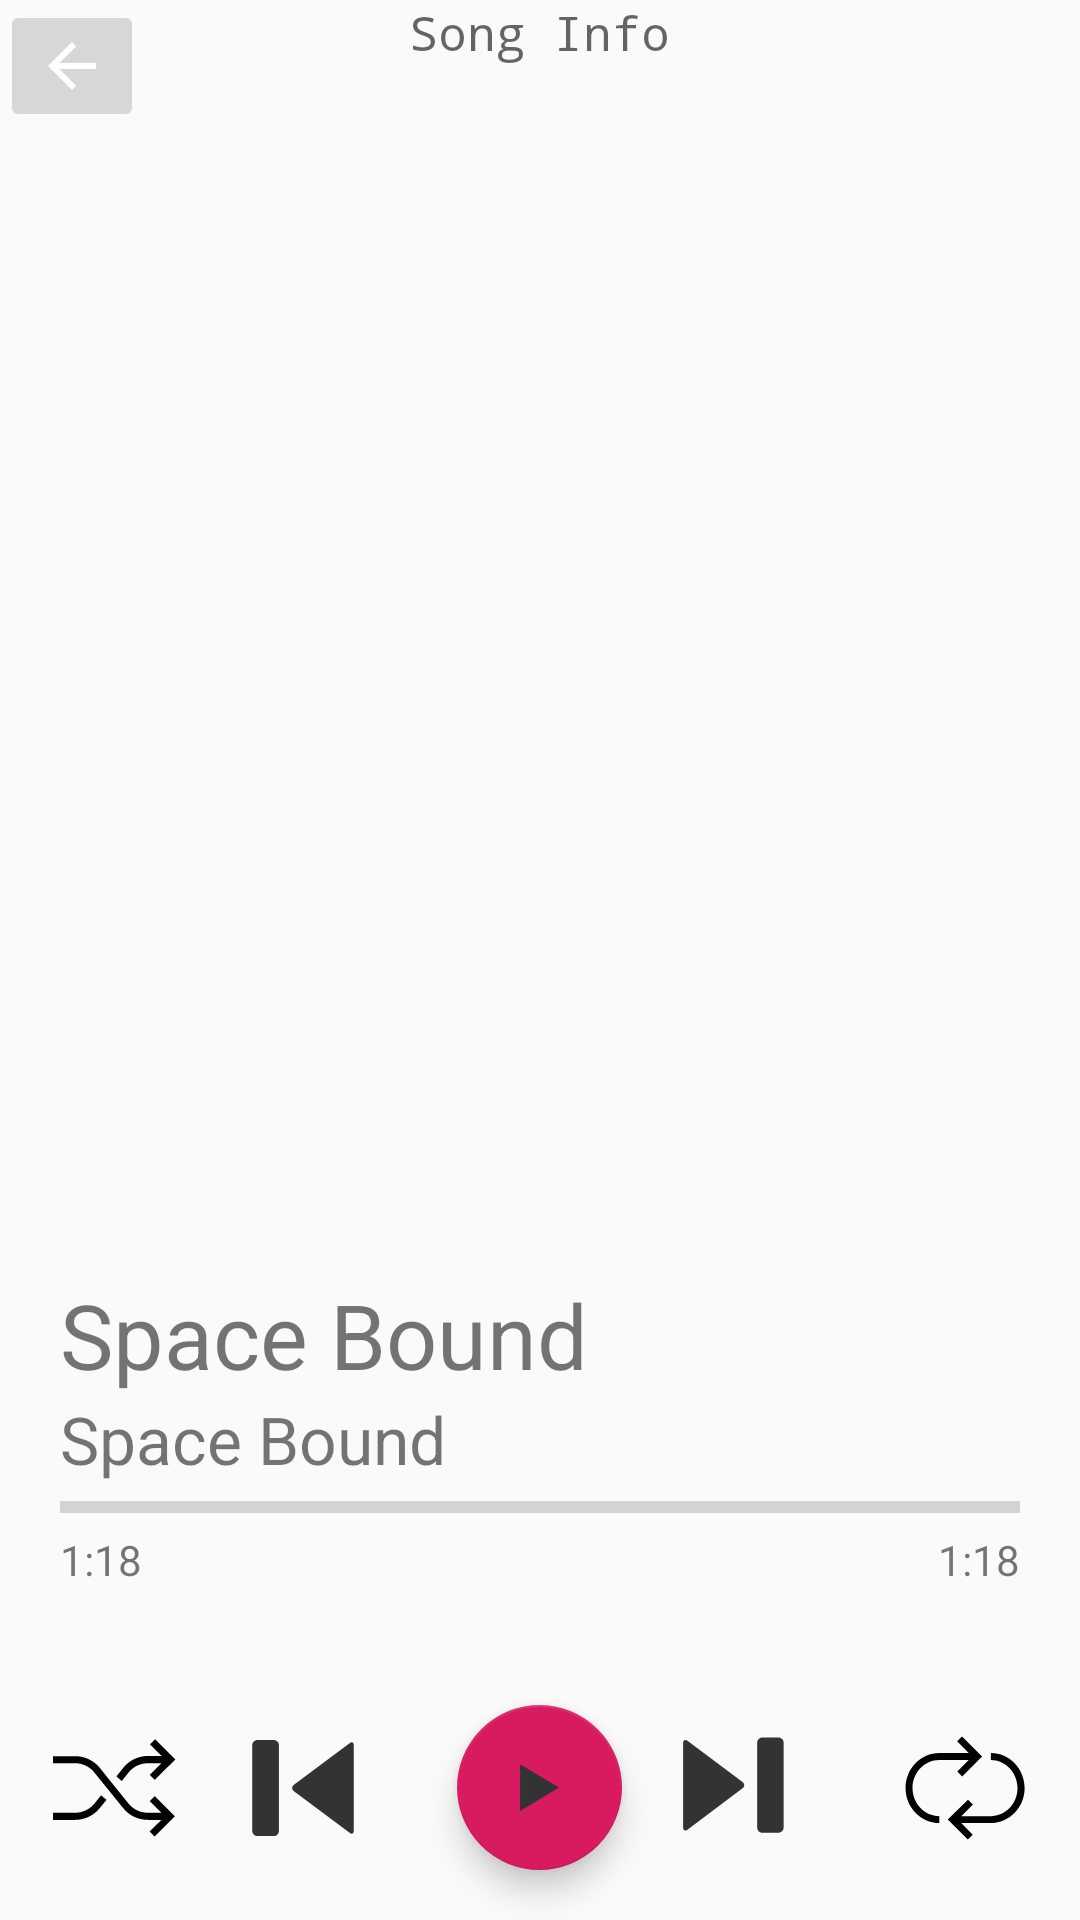

Where to tap for icons on this 1080x1920 app screen, as [x,y]:
control shuffle: [114,1788]
loop: [965,1788]
video control next: [733,1785]
video control play: [539,1787]
video control previous: [303,1788]
